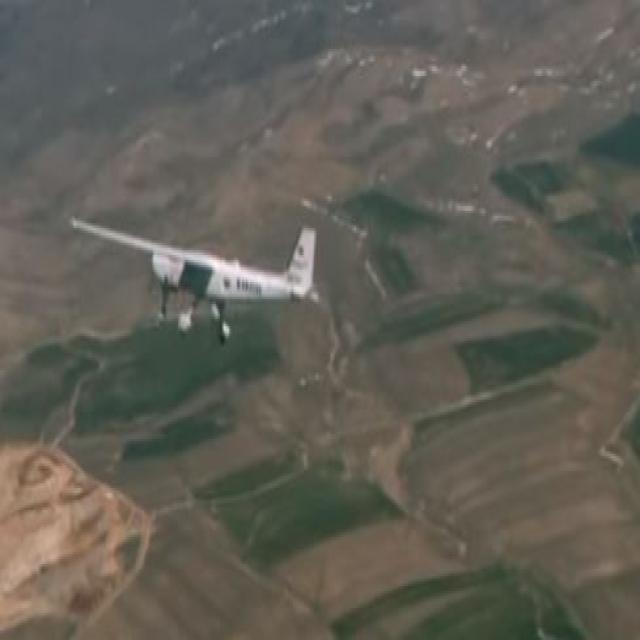iha: (68, 215, 320, 344)
